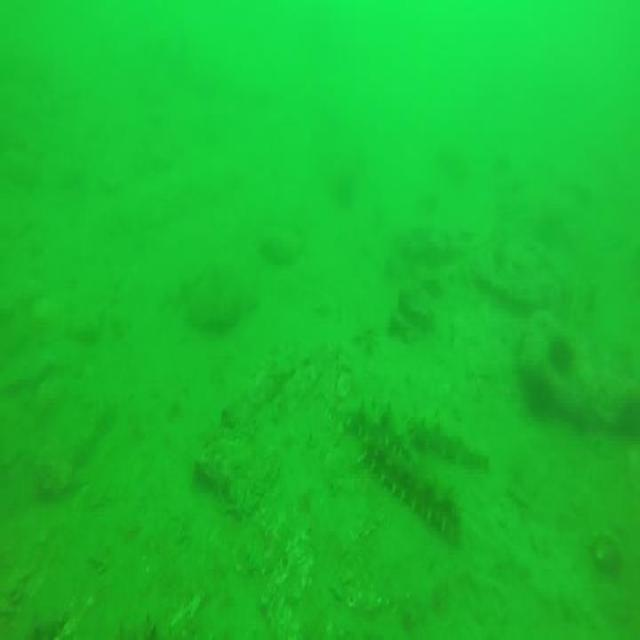echinus: (549, 334, 577, 374)
holothurian: (363, 432, 455, 546), (407, 408, 492, 466), (341, 400, 411, 468)
